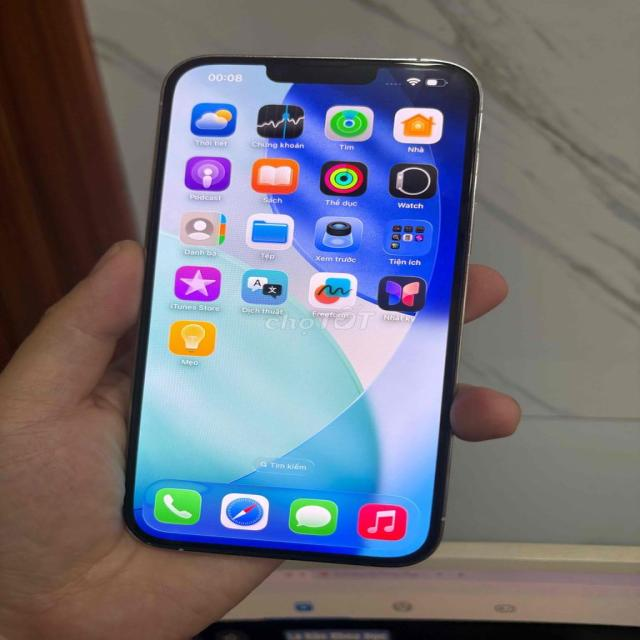gen_15: (115, 49, 485, 566)
